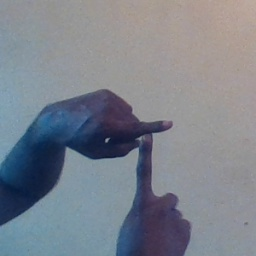T: (93, 94, 195, 221)
